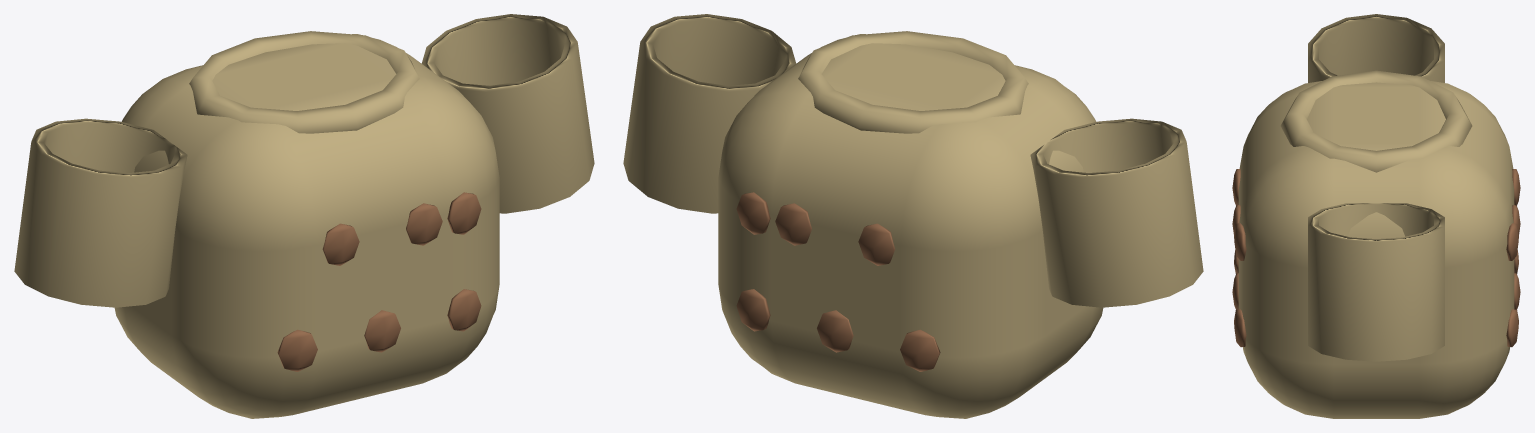
Rendered from camo_tee.glb.
3 renders of one model, left to right at view 1: azimuth 30°, elevation 25°; view 2: azimuth 150°, elevation 25°; view 3: azimuth 270°, elevation 25°, orthographic. The views are drawn at different scales.
Visible parts, largest first — view 1: camo_tee_Body, camo_tee_ArmL, camo_tee_ArmR; view 2: camo_tee_Body, camo_tee_ArmL, camo_tee_ArmR; view 3: camo_tee_Body, camo_tee_ArmR, camo_tee_ArmL.
Part boxes in pixels (x1,y1,x2,y2): camo_tee_Body: [114, 31, 499, 418]; camo_tee_ArmL: [14, 118, 187, 307]; camo_tee_ArmR: [421, 14, 594, 213]; camo_tee_Body: [718, 31, 1103, 418]; camo_tee_ArmL: [1030, 118, 1203, 307]; camo_tee_ArmR: [623, 14, 796, 213]; camo_tee_Body: [1232, 70, 1520, 418]; camo_tee_ArmR: [1308, 203, 1444, 361]; camo_tee_ArmL: [1308, 14, 1444, 82].
Bounding box in the file's own units: 0.6053 × 0.3119 × 0.3032.
